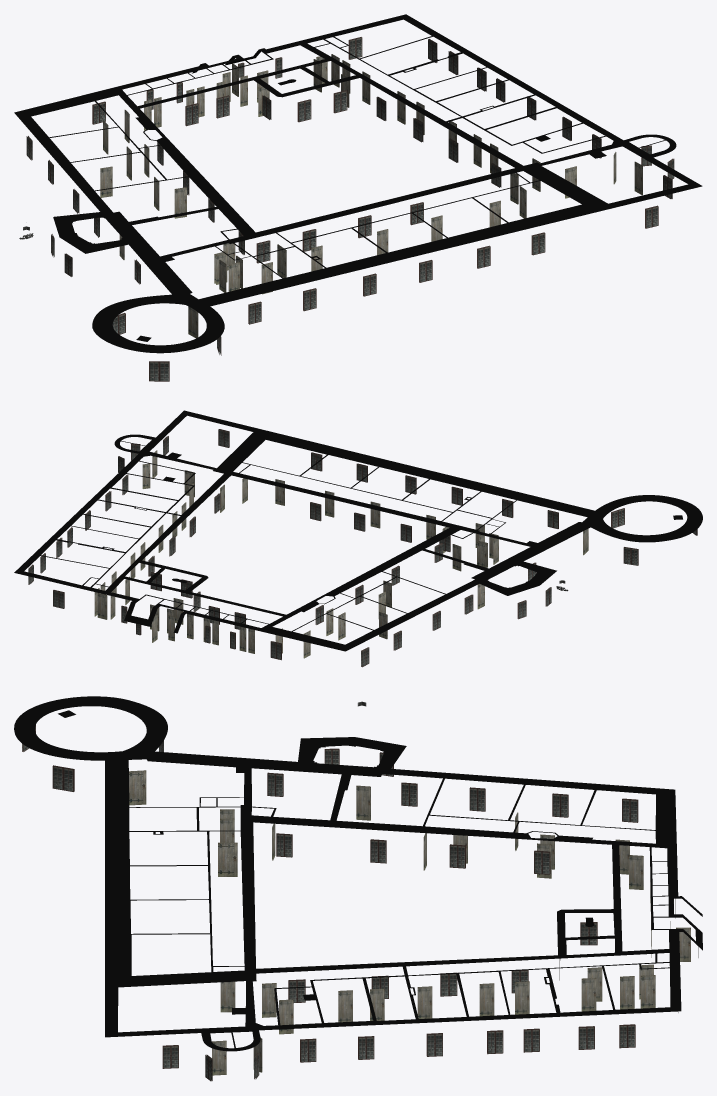
File: 3_STAVS.fbx
3 renders of one model, top to bottom at view 1: azimuth 30°, elevation 25°; view 2: azimuth 150°, elevation 25°; view 3: azimuth 270°, elevation 25°, orthographic. The views are drawn at different scales.
Visible parts, largest first — view 1: 3_GRIEZUMS, 3_LD; view 2: 3_GRIEZUMS, 3_LD; view 3: 3_GRIEZUMS, 3_LD.
Boxes of the visible parts, box(x1,y1,x2,y2) form: 3_GRIEZUMS: box(14, 14, 702, 353); 3_LD: box(26, 37, 674, 381); 3_GRIEZUMS: box(14, 410, 702, 651); 3_LD: box(28, 429, 697, 667); 3_GRIEZUMS: box(14, 696, 702, 1051); 3_LD: box(22, 725, 698, 1081).
Bounding box in the file's own units: 59881 × 5449 × 49116.
